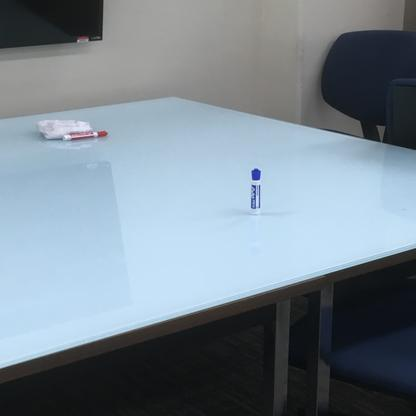expo_marker: (243, 166, 269, 215), (57, 127, 116, 143)
